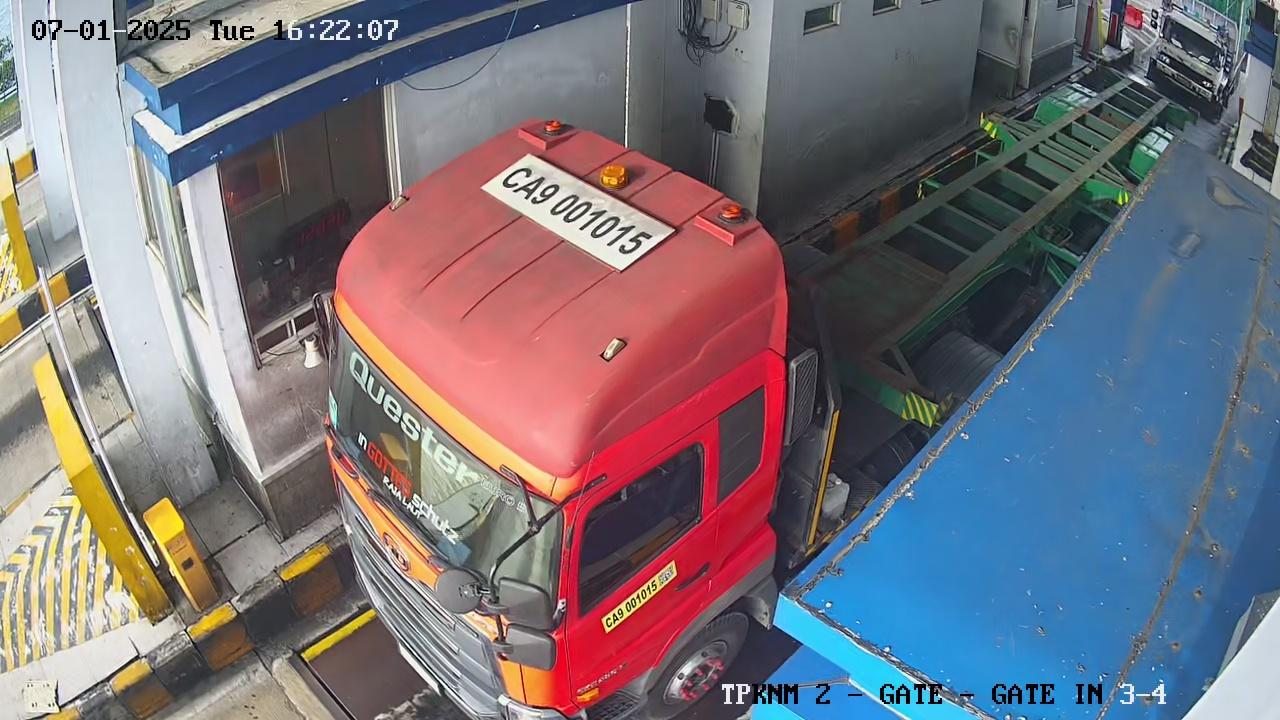truck_id: (481, 153, 675, 271), (601, 560, 676, 634)
